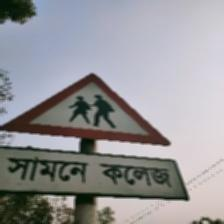College-in-front: (0, 65, 194, 204)
